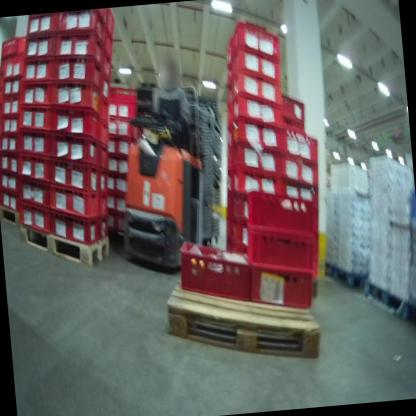pallet: (157, 256, 326, 378), (17, 208, 116, 270), (320, 253, 378, 303), (363, 278, 405, 327), (0, 199, 27, 236)
pallet_truck: (103, 75, 228, 279)
small_load_carrier: (243, 213, 321, 276), (245, 186, 318, 243), (229, 41, 281, 91), (232, 85, 284, 134), (230, 110, 285, 155), (54, 27, 105, 74), (54, 10, 109, 53), (48, 152, 104, 194), (49, 100, 103, 143), (48, 129, 103, 171), (49, 181, 102, 224), (51, 51, 105, 93), (230, 66, 281, 109), (47, 207, 103, 245), (231, 27, 284, 67), (229, 141, 280, 182), (52, 78, 101, 120), (231, 165, 283, 199), (282, 121, 319, 165), (15, 170, 49, 216), (280, 176, 322, 211), (283, 148, 319, 187), (17, 197, 50, 239), (16, 119, 48, 162), (101, 90, 141, 124), (224, 219, 252, 266), (12, 151, 50, 185), (17, 99, 54, 133), (20, 79, 52, 114), (103, 115, 138, 146), (279, 91, 309, 126), (103, 131, 139, 159), (18, 53, 54, 80), (107, 208, 133, 240), (104, 150, 132, 178), (23, 34, 52, 61), (232, 187, 252, 225), (104, 170, 134, 195), (221, 75, 239, 110), (106, 193, 132, 217), (24, 16, 59, 33), (95, 166, 114, 197), (0, 188, 23, 213), (0, 33, 22, 59), (0, 79, 24, 102), (0, 168, 21, 194), (0, 150, 19, 178), (0, 132, 23, 155), (0, 58, 22, 81), (98, 93, 113, 125), (100, 53, 116, 82), (98, 71, 112, 103), (0, 115, 23, 134), (99, 186, 111, 220), (224, 121, 238, 150), (102, 35, 117, 62), (97, 215, 112, 241), (91, 9, 110, 28), (222, 38, 234, 68), (100, 119, 111, 151), (0, 101, 22, 117), (100, 145, 111, 175), (105, 8, 116, 36)
